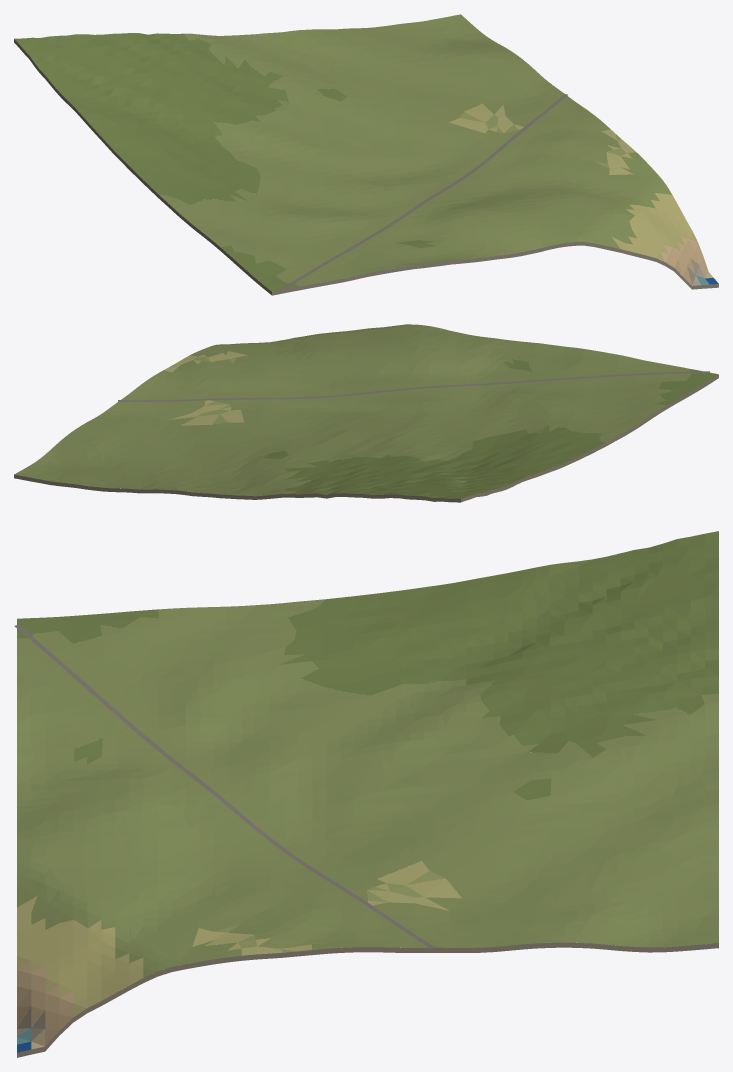
The model's file is parca_+8_-8-uzak.glb.
The picture shows the model from 3 angles, top to bottom: view 1: azimuth 30°, elevation 25°; view 2: azimuth 150°, elevation 25°; view 3: azimuth 270°, elevation 25°; orthographic projection. The views are drawn at different scales.
Parts seen in each view (by area): view 1: parca_+8_-8_arazi_uzak, parca_+8_-8_yollar_uzak; view 2: parca_+8_-8_arazi_uzak, parca_+8_-8_yollar_uzak; view 3: parca_+8_-8_arazi_uzak, parca_+8_-8_yollar_uzak.
Part boxes in pixels (x1=…): parca_+8_-8_arazi_uzak: x1=14, y1=14, x2=718, y2=295; parca_+8_-8_yollar_uzak: x1=280, y1=94, x2=567, y2=290; parca_+8_-8_arazi_uzak: x1=14, y1=324, x2=718, y2=502; parca_+8_-8_yollar_uzak: x1=118, y1=371, x2=709, y2=401; parca_+8_-8_arazi_uzak: x1=17, y1=531, x2=718, y2=1057; parca_+8_-8_yollar_uzak: x1=14, y1=625, x2=435, y2=948.
Bounding box in the file's own units: 1004 × 362 × 1004.
